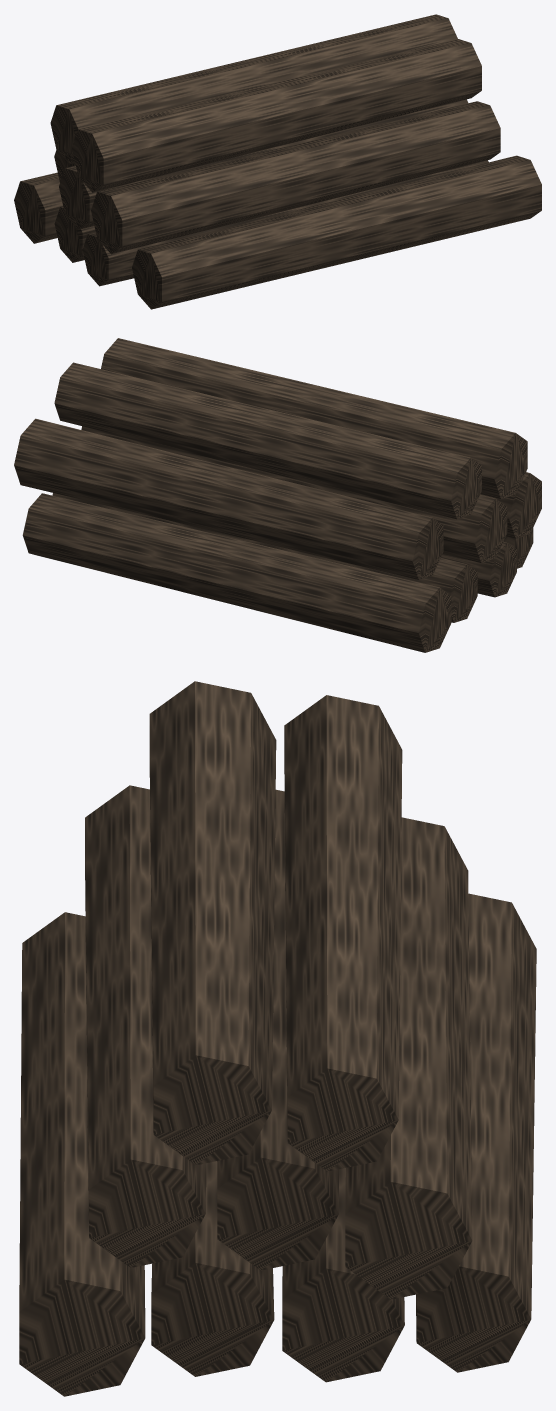
File: catasta_legna.glb
3 views of the same model, one above another, from view 1: azimuth 30°, elevation 25°; view 2: azimuth 150°, elevation 25°; view 3: azimuth 270°, elevation 25° (orthographic). The views are drawn at different scales.
Parts seen in each view (by area): view 1: catasta_legna; view 2: catasta_legna; view 3: catasta_legna.
Boxes of the visible parts, bbox=[...] form: catasta_legna: bbox=[14, 14, 541, 309]; catasta_legna: bbox=[14, 338, 541, 652]; catasta_legna: bbox=[19, 681, 536, 1396].
Bounding box in the file's own units: 2.37 × 0.8854 × 1.3.
Materials: 1 (1 with a texture image).
